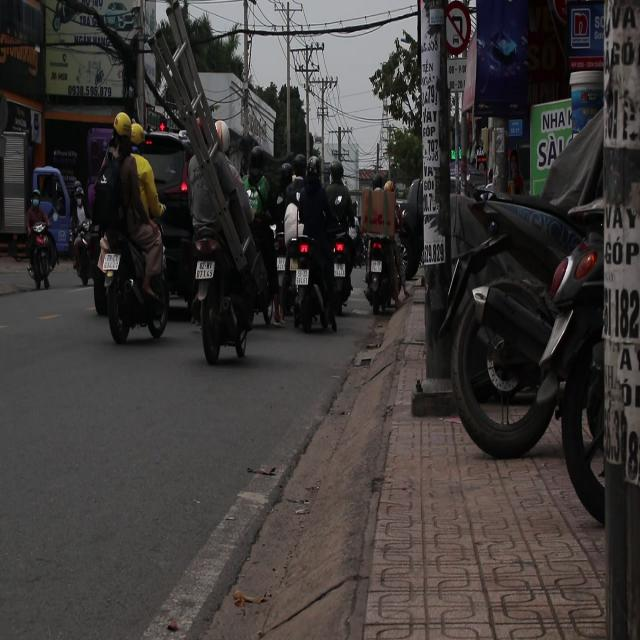car: (135, 128, 195, 314)
motorbike: (175, 175, 263, 362), (100, 227, 171, 346), (282, 202, 338, 336), (357, 183, 407, 314), (325, 224, 361, 305), (26, 214, 60, 290)
